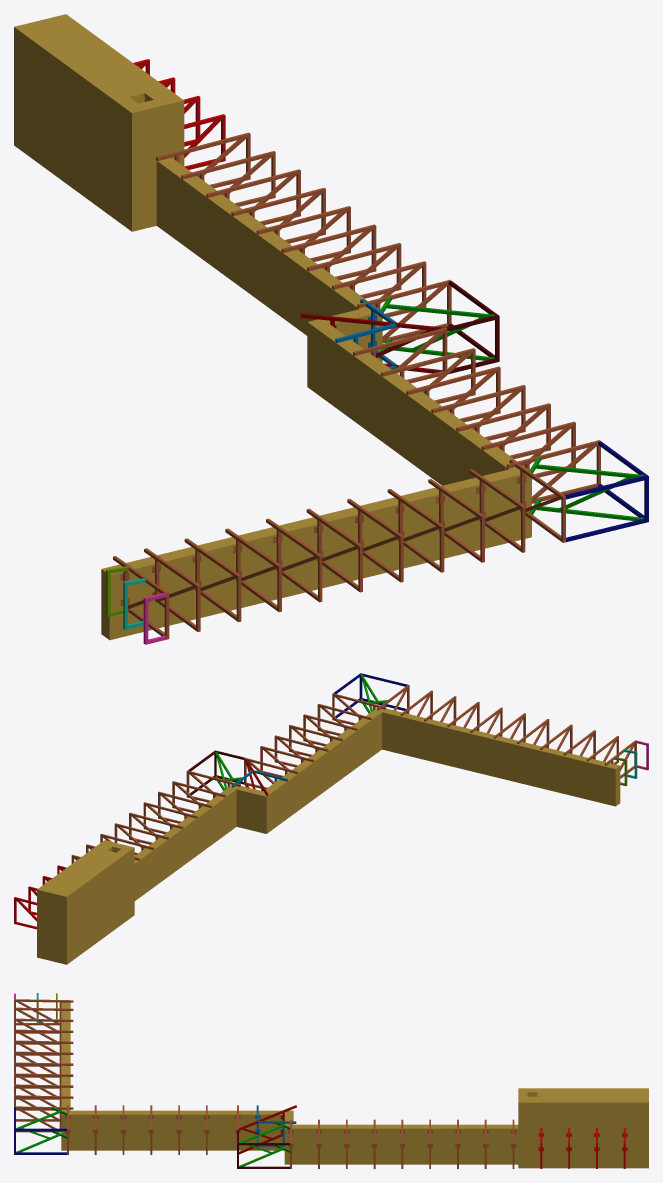
Rendered from aquakronsht321.glb.
3 views of the same model, one above another, from view 1: azimuth 30°, elevation 25°; view 2: azimuth 150°, elevation 25°; view 3: azimuth 270°, elevation 25° (orthographic). The views are drawn at different scales.
Visible parts, largest first — view 1: Внешняя_оболочка.002, Внешняя_оболочка.001, РљРѕРјРїРѕРЅР_РЅС__322.001, РљРѕРјРїРѕРЅР_РЅС__330.001, РљРѕРјРїРѕРЅР_РЅС__296.001, РљРѕРјРїРѕРЅР_РЅС__325.001, РљРѕРјРїРѕРЅР_РЅС__318.001; view 2: Внешняя_оболочка.002, Внешняя_оболочка.001, РљРѕРјРїРѕРЅР_РЅС__322.001; view 3: Внешняя_оболочка.002, Внешняя_оболочка.001, РљРѕРјРїРѕРЅР_РЅС__322.001, РљРѕРјРїРѕРЅР_РЅС__325.001, РљРѕРјРїРѕРЅР_РЅС__330.001, РљРѕРјРїРѕРЅР_РЅС__318.001, РљРѕРјРїРѕРЅР_РЅС__296.001, Различие.002.
Part boxes in pixels (<box>): Внешняя_оболочка.002: <box>101,157,531,640</box>; Внешняя_оболочка.001: <box>14,14,184,231</box>; РљРѕРјРїРѕРЅР_РЅС__322.001: <box>564,441,648,542</box>; РљРѕРјРїРѕРЅР_РЅС__330.001: <box>529,457,643,520</box>; РљРѕРјРїРѕРЅР_РЅС__296.001: <box>446,281,499,373</box>; РљРѕРјРїРѕРЅР_РЅС__325.001: <box>380,297,494,360</box>; РљРѕРјРїРѕРЅР_РЅС__318.001: <box>300,313,443,373</box>; Внешняя_оболочка.002: <box>134,707,620,900</box>; Внешняя_оболочка.001: <box>37,840,134,964</box>; РљРѕРјРїРѕРЅР_РЅС__322.001: <box>333,673,407,717</box>; Внешняя_оболочка.002: <box>61,1002,518,1164</box>; Внешняя_оболочка.001: <box>518,1088,648,1168</box>; РљРѕРјРїРѕРЅР_РЅС__322.001: <box>14,1107,66,1154</box>; РљРѕРјРїРѕРЅР_РЅС__325.001: <box>239,1122,289,1166</box>; РљРѕРјРїРѕРЅР_РЅС__330.001: <box>16,1107,66,1152</box>; РљРѕРјРїРѕРЅР_РЅС__318.001: <box>239,1105,296,1154</box>; РљРѕРјРїРѕРЅР_РЅС__296.001: <box>237,1129,289,1168</box>; Различие.002: <box>255,1105,296,1146</box>.
Size of the model in its own units: 9.58 by 1.95 by 17.13.
